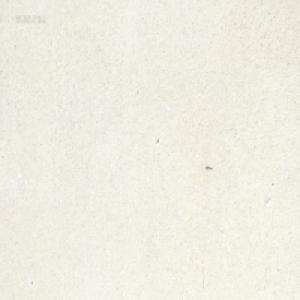Nail: (205, 165, 212, 170)
